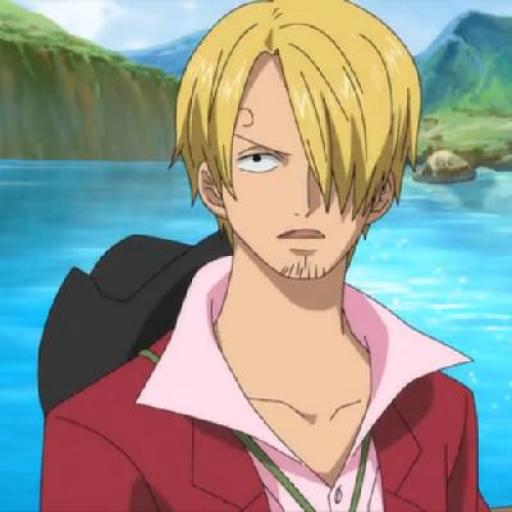sanji: (41, 5, 500, 512)
